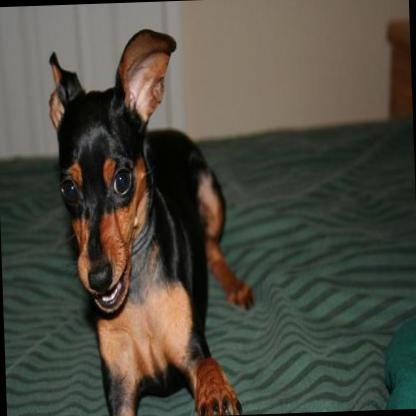miniature_pinscher: (45, 25, 257, 416)
